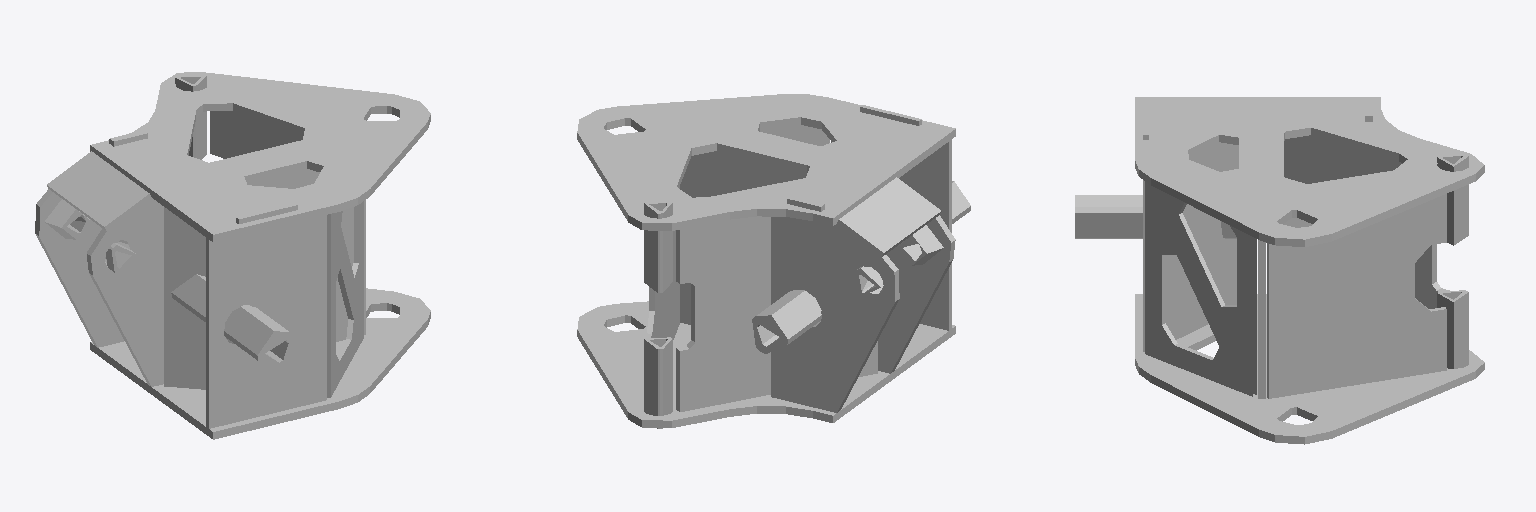
File: Yaw.obj
3 renders of one model, left to right at view 1: azimuth 30°, elevation 25°; view 2: azimuth 150°, elevation 25°; view 3: azimuth 270°, elevation 25°, orthographic.
Visible parts, largest first — view 1: mesh 1; view 2: mesh 1; view 3: mesh 1.
Part boxes in pixels (bbox=[...]): mesh 1: bbox=[35, 72, 430, 439]; mesh 1: bbox=[577, 94, 970, 428]; mesh 1: bbox=[1075, 97, 1484, 444].
Bounding box in the file's own units: 0.0116 × 0.0068 × 0.0117.